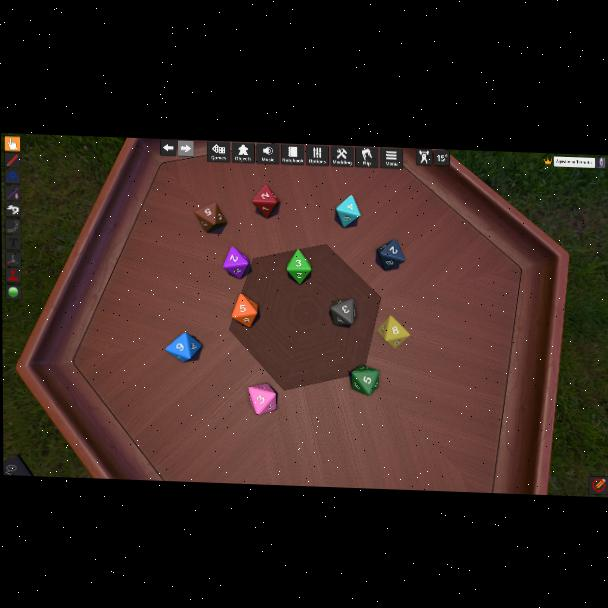d8: (165, 332, 202, 363), (377, 315, 408, 348), (194, 203, 225, 235), (248, 382, 278, 415), (253, 184, 280, 219), (232, 294, 259, 328), (375, 239, 402, 272), (222, 246, 248, 279), (335, 194, 360, 228), (351, 366, 379, 396), (287, 249, 311, 283), (330, 299, 354, 327)
